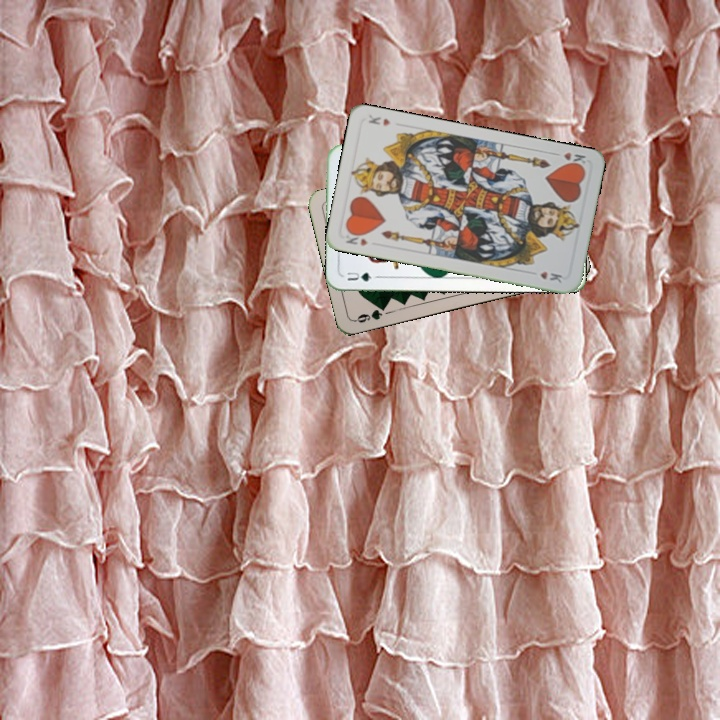G9: (351, 301, 389, 325)
GU: (343, 268, 374, 284)
HK: (549, 148, 588, 170), (342, 227, 370, 248)
